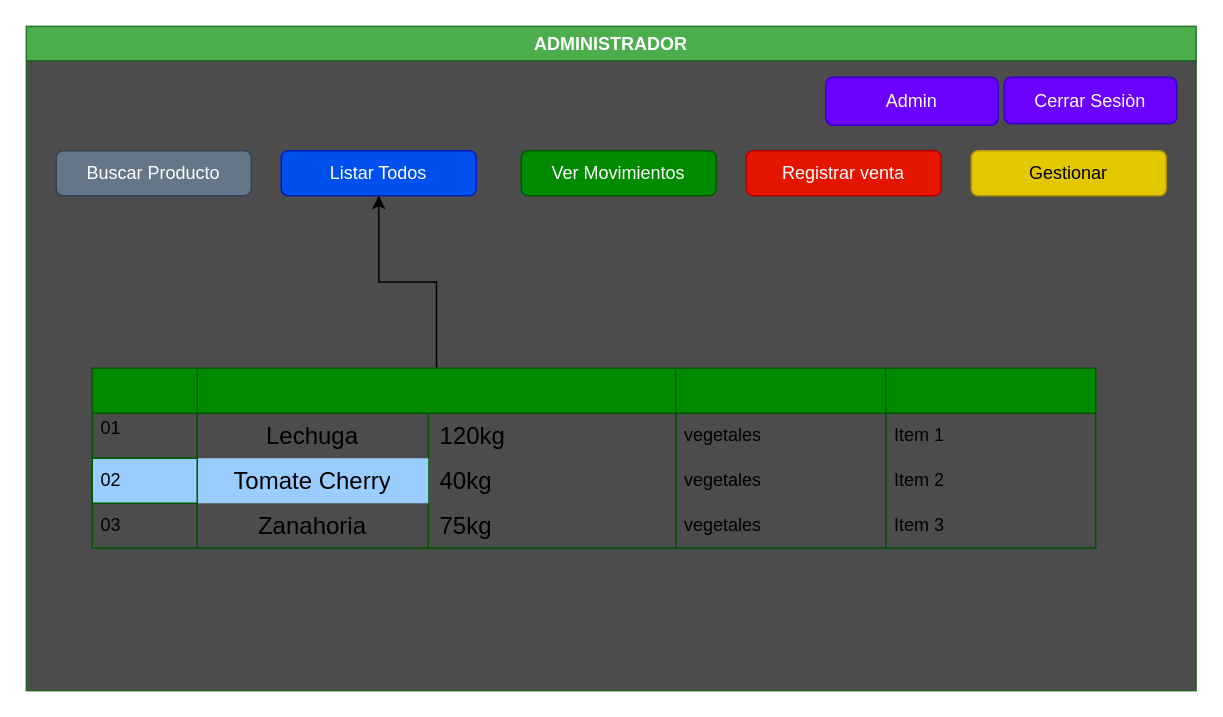
Image size: 1223x717. Some labels were removed from this diagram. The shapes that lost their labels are listed below. From the top down, each one's box as (x1, y1, x2, y2) in pixels, then its label:
(91, 367, 197, 548): ID
(196, 367, 676, 548): Listado de Productos peso
(674, 367, 886, 548): Categoria
(884, 367, 1096, 548): Movimiento
